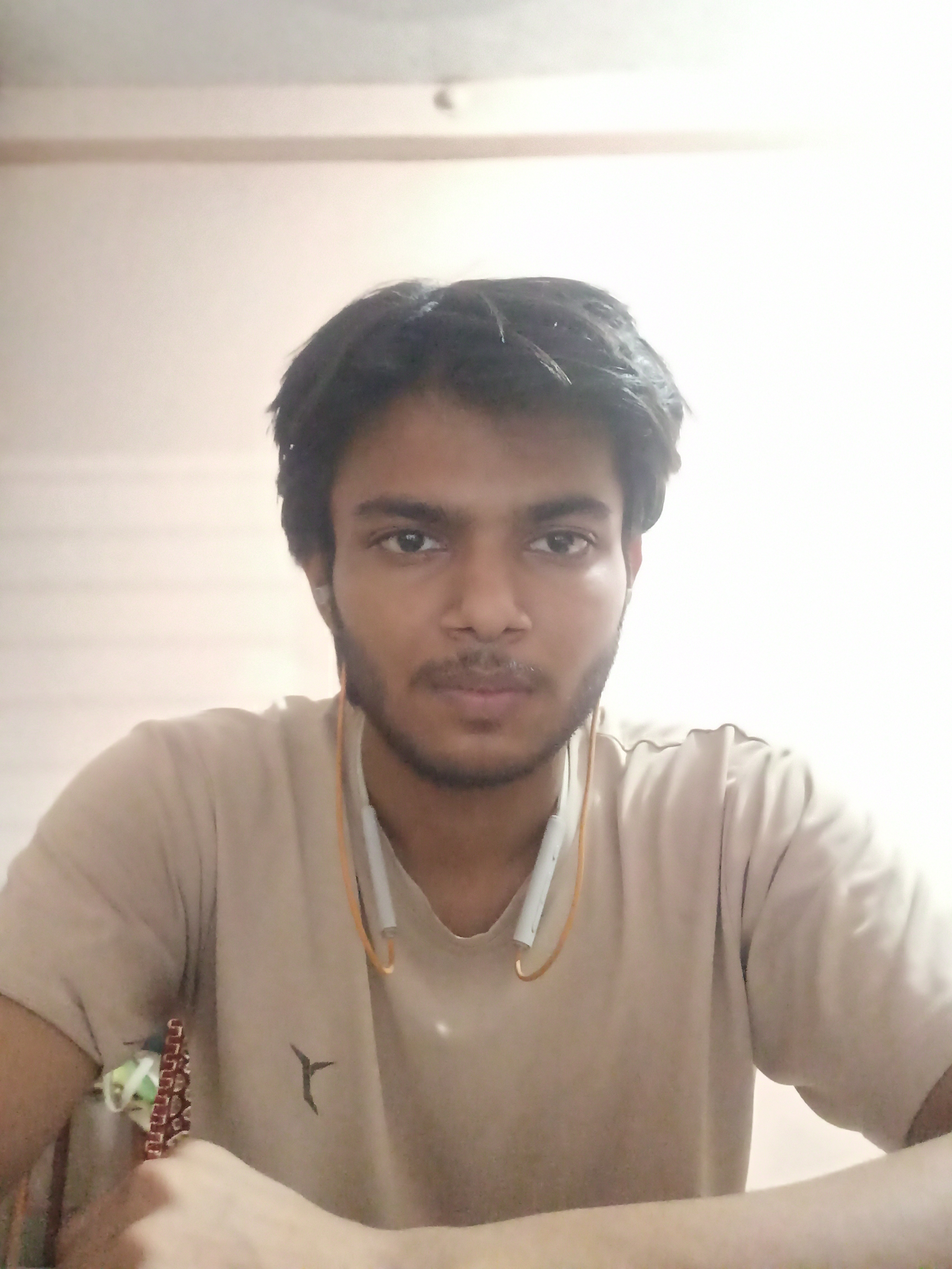Focused: (241, 198, 780, 908)
